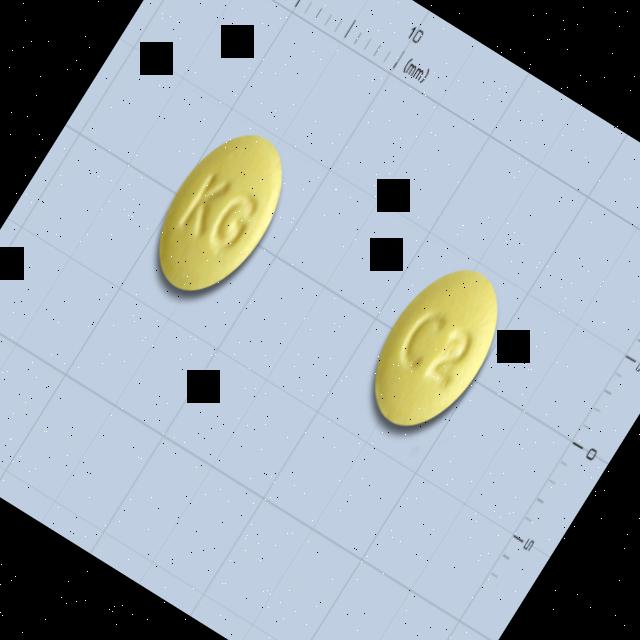Globit: (344, 246, 524, 452), (133, 112, 310, 314)
